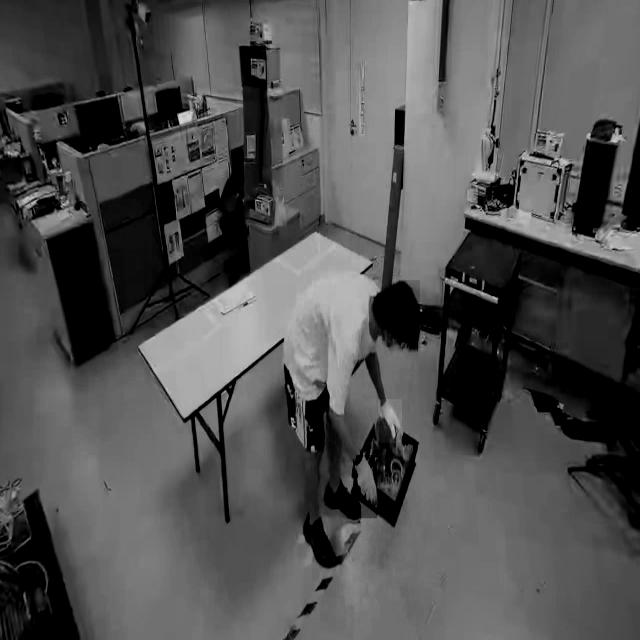hand_glove: (355, 455, 377, 519), (378, 399, 402, 444)
head_nohelmet: (399, 280, 420, 349)
person: (270, 263, 440, 567)
shoes: (300, 502, 338, 574), (322, 473, 363, 523)
